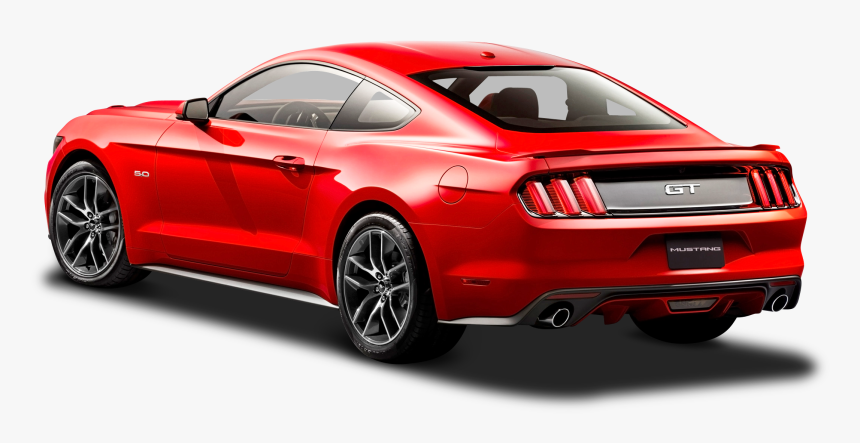car: (43, 40, 805, 367)
